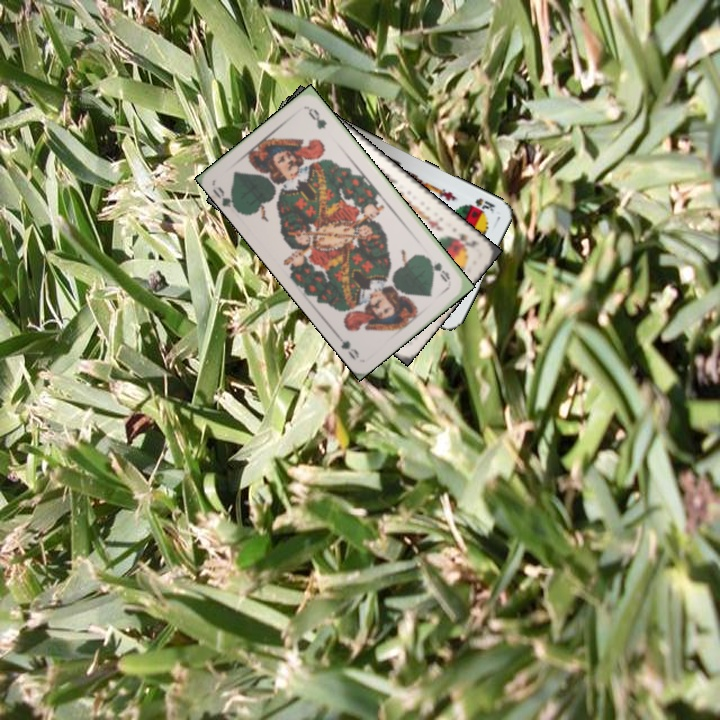GO: (209, 182, 241, 215), (422, 253, 453, 285)
SK: (446, 229, 480, 252), (471, 194, 498, 216)
